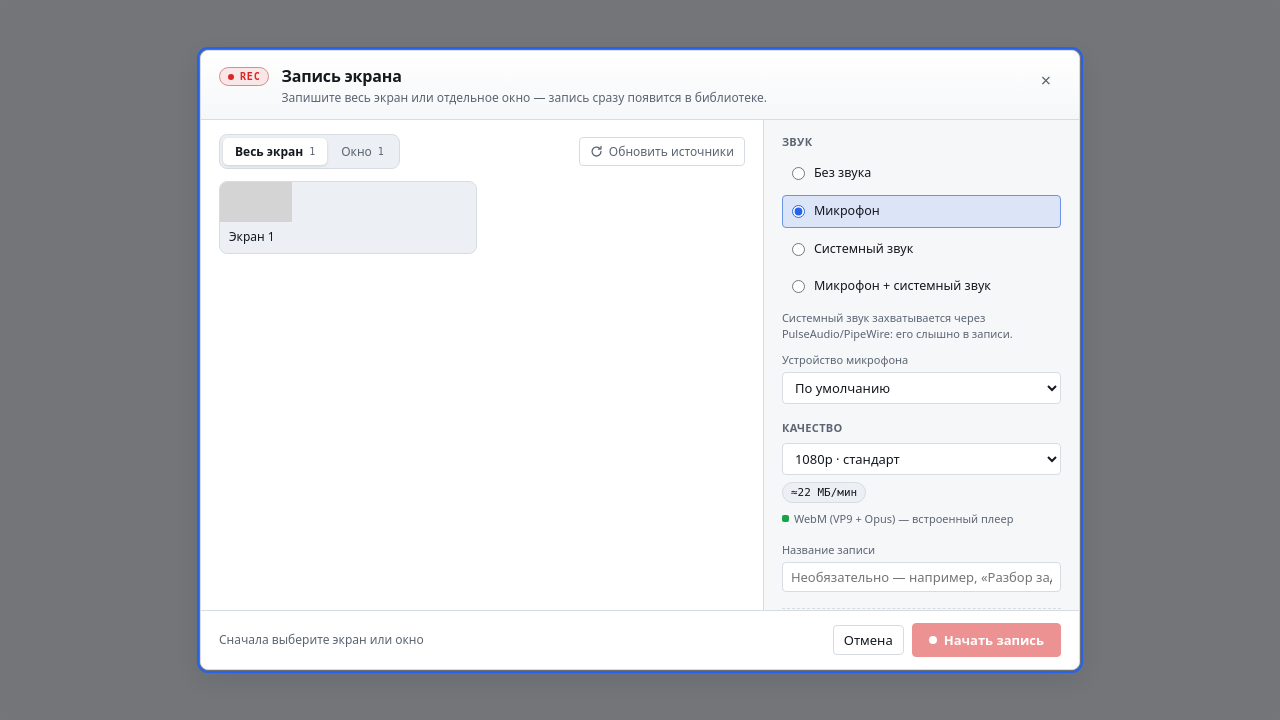
it: RecordDialog › показывает источники на вкладках «Весь экран» и «Окно»
Expected: the dialog is shown, [200,50,1080,670]
Expected: the heading "Запись экрана" is shown, [282,65,402,87]
Click the tab "Окно 1" at [363, 151], box [329,138,396,165]
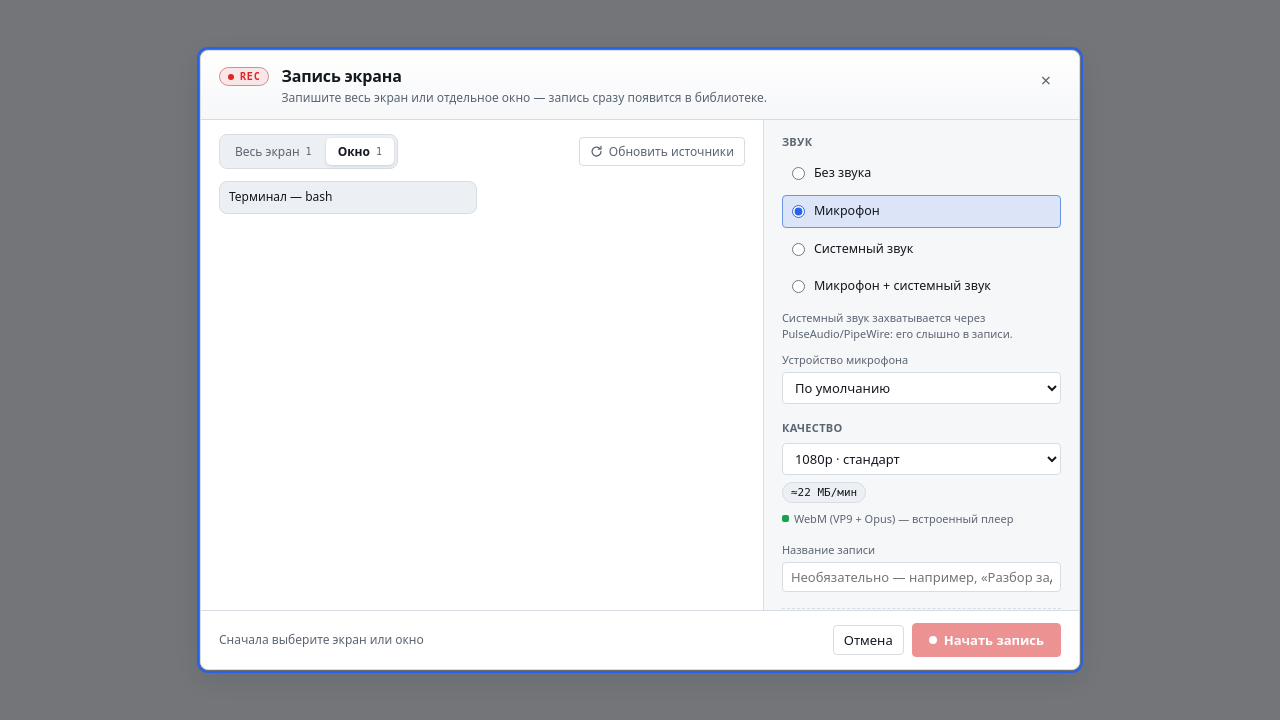
Result: the text "Терминал — bash" is shown at [229,188,332,205]
